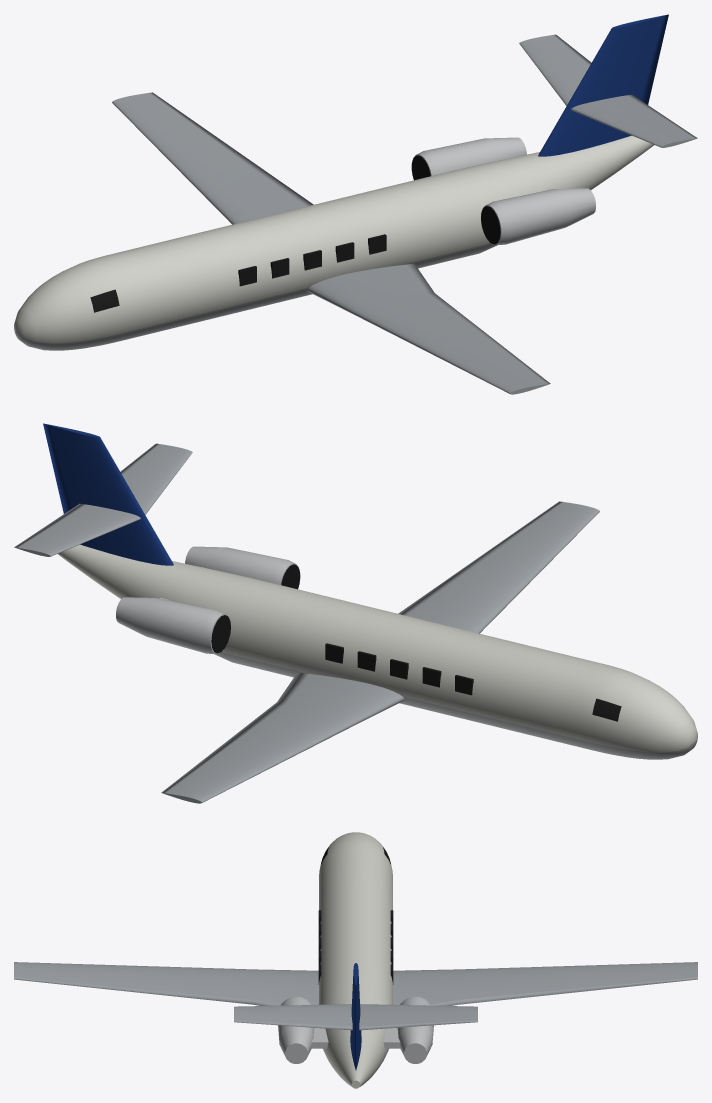
3 views of the same model, one above another, from view 1: azimuth 30°, elevation 25°; view 2: azimuth 150°, elevation 25°; view 3: azimuth 270°, elevation 25° (orthographic). The views are drawn at different scales.
Visible parts, largest first — view 1: c56x; view 2: c56x; view 3: c56x.
Boxes of the visible parts, box(x1,y1,x2,y2) form: c56x: box(14, 14, 697, 394); c56x: box(14, 423, 697, 803); c56x: box(14, 832, 697, 1088).
Bounding box in the file's own units: 15.92 × 4.37 × 16.83.
